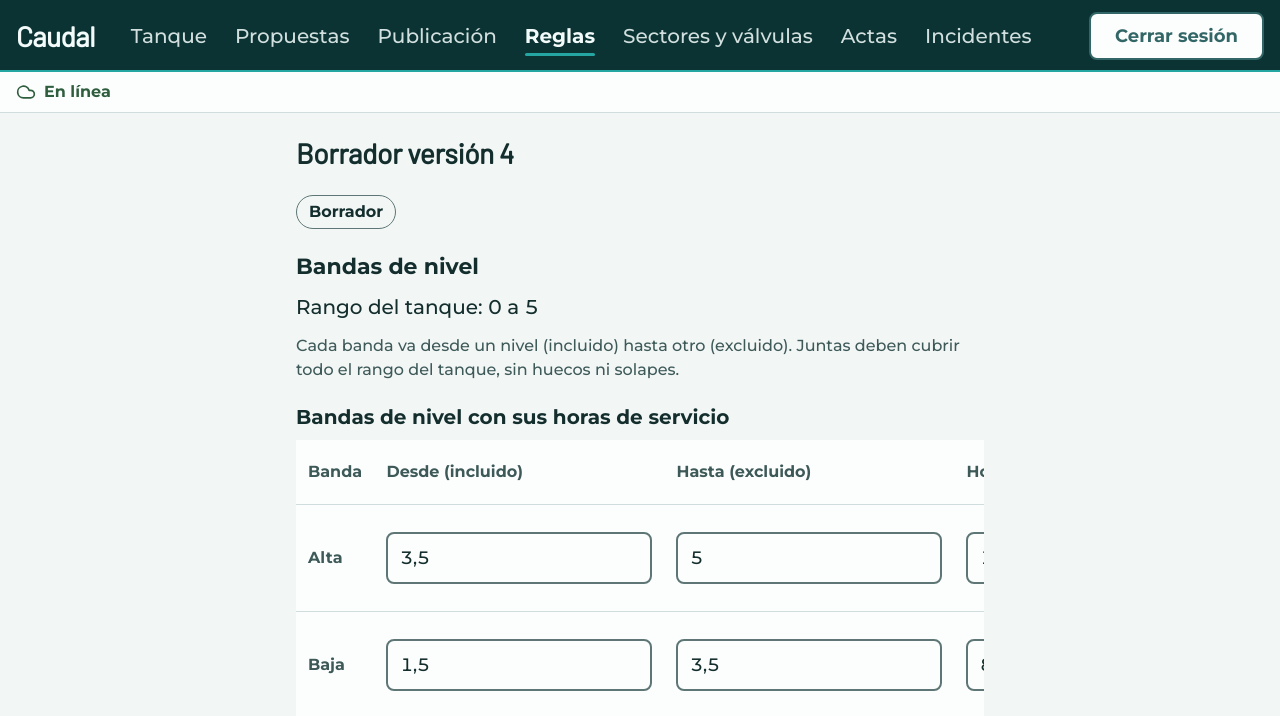
BandsEditor › explains the overlap
Replace the text in the 5th field with "3,6" at (810, 665), box left=676, top=639, right=942, bottom=691
(page scrolled)
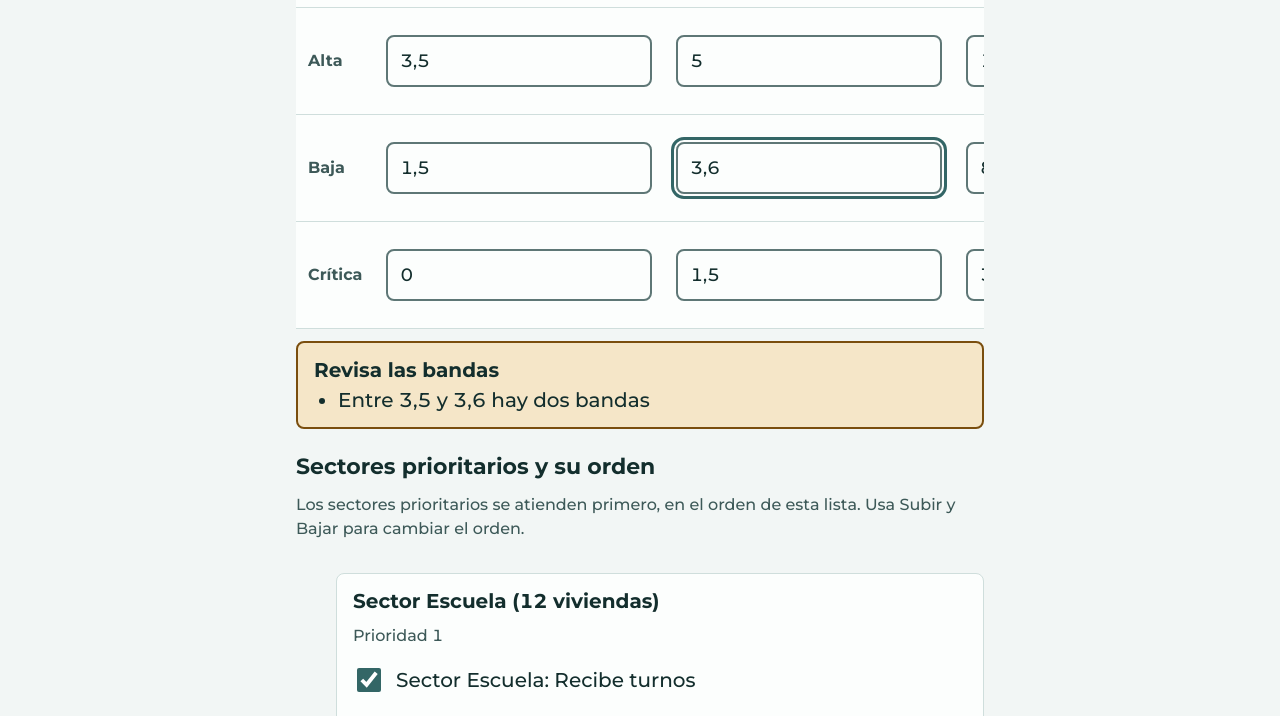
Expected: the list item "Entre 3,5 y 3,6 hay dos bandas" is shown, left=338, top=388, right=650, bottom=412
